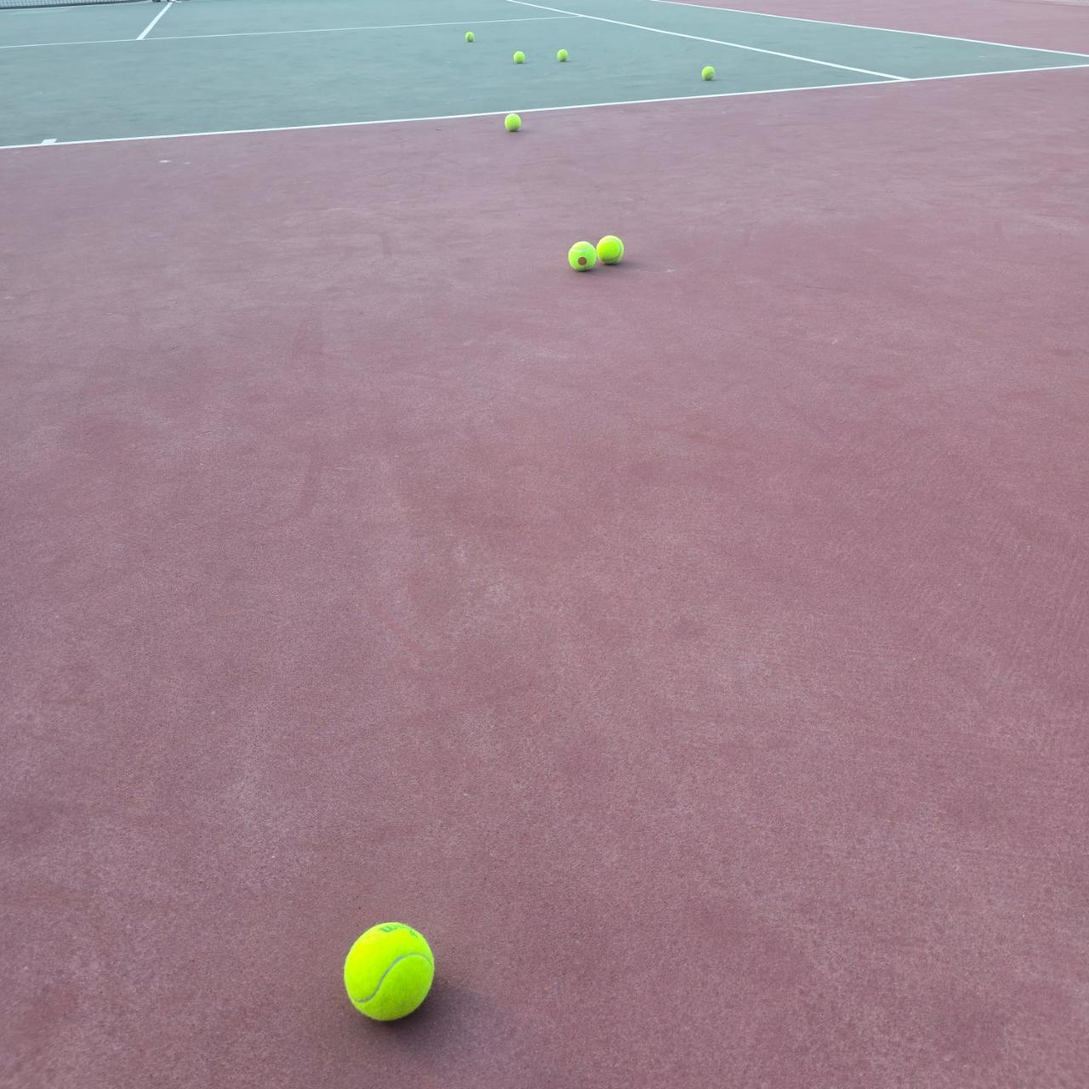tennis-ball: (342, 919, 435, 1023), (567, 241, 596, 271), (596, 235, 624, 264), (503, 111, 521, 130), (702, 66, 715, 80), (557, 49, 569, 62), (514, 51, 525, 64), (465, 31, 475, 43)
